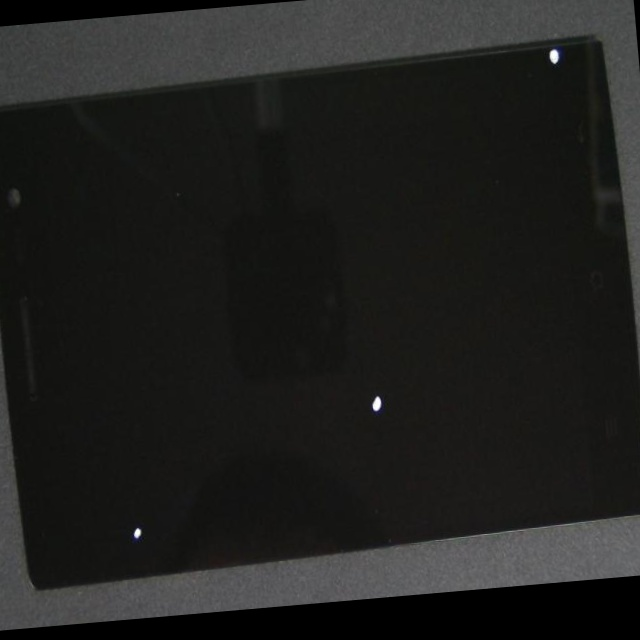stain: (165, 157, 585, 596), (0, 279, 208, 629), (259, 62, 640, 152)
